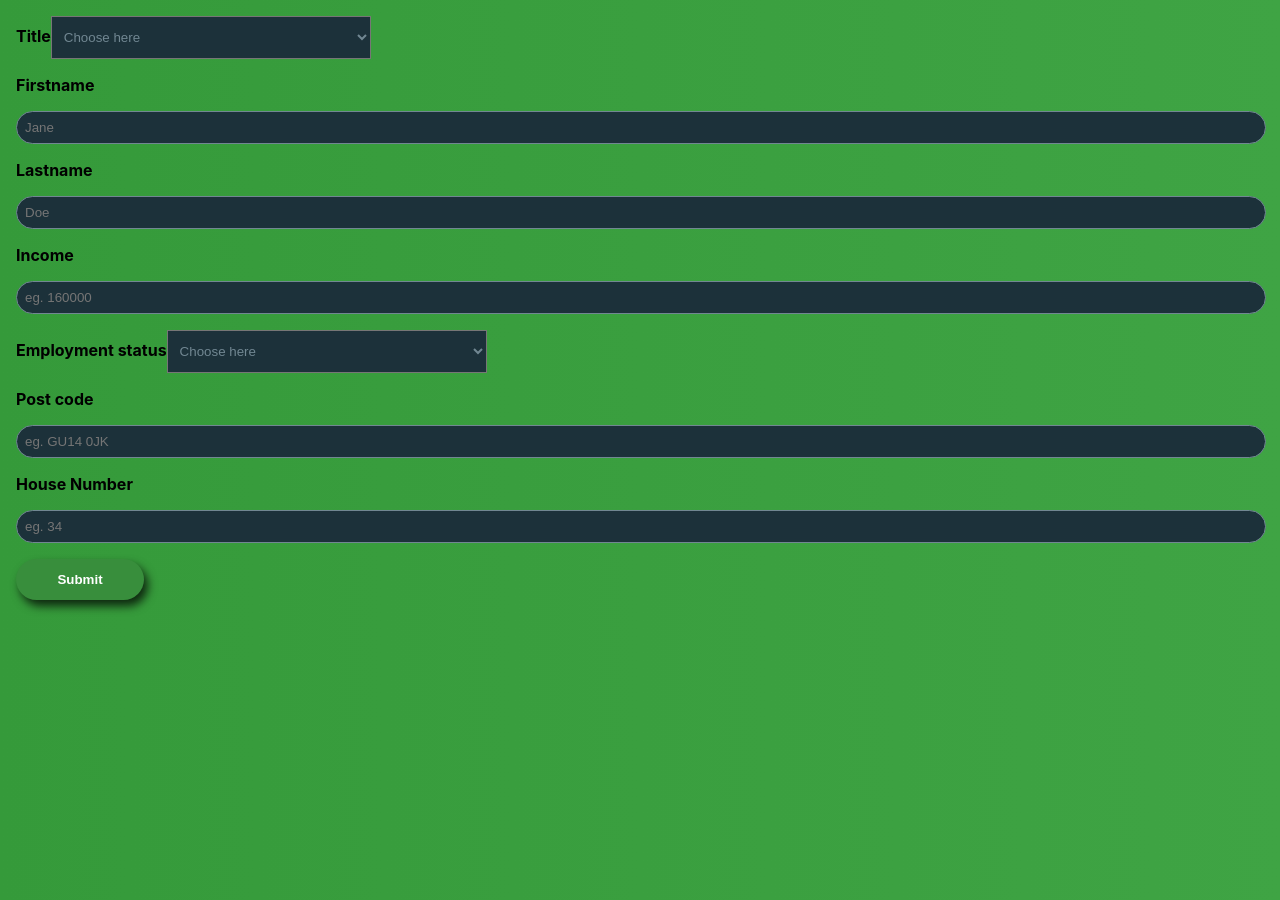
Test: don't fill out form, submit and get validation messages
The width and height of the screenshot is (1280, 900).
expect the text "Title" is shown: met, box [16,26,51,46]
Click the button "Submit" at (80, 579), box [16,559,144,600]
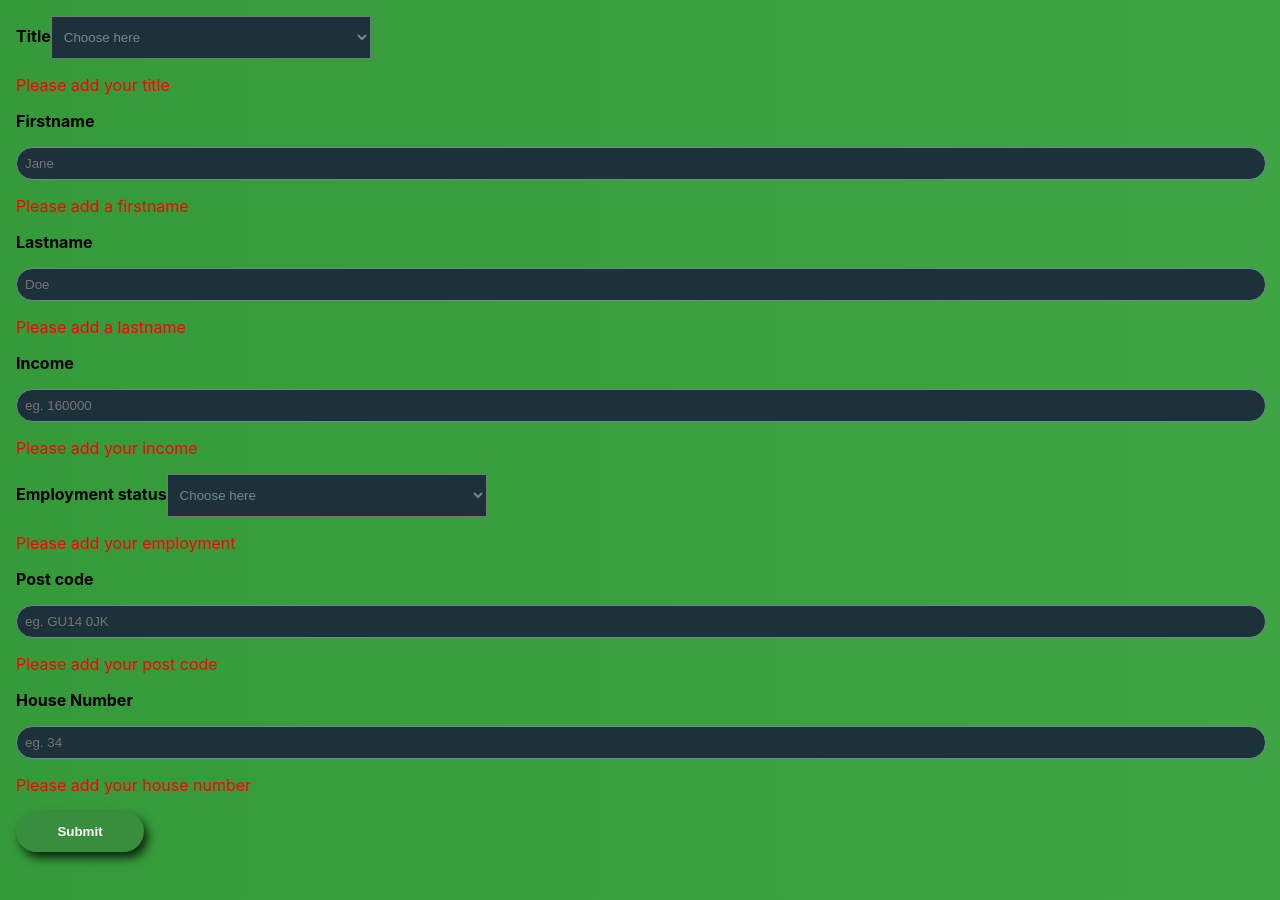
expect the text "Please add your title" is shown: met, box [16,75,170,95]
expect the text "Please add a firstname" is shown: met, box [16,196,189,216]
expect the text "Please add a lastname" is shown: met, box [16,317,186,337]
